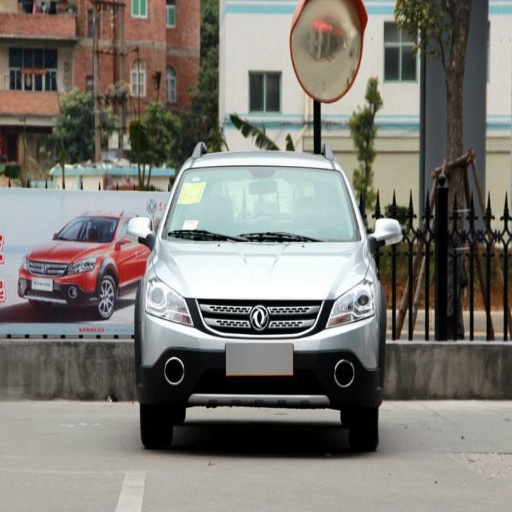front_bumper: (137, 297, 380, 407)
front_right_light: (145, 277, 194, 326)
hood: (155, 238, 368, 299)
